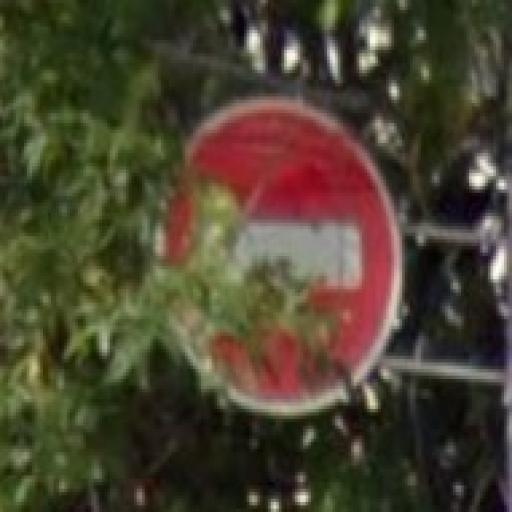traffic_sign: (151, 94, 409, 420)
